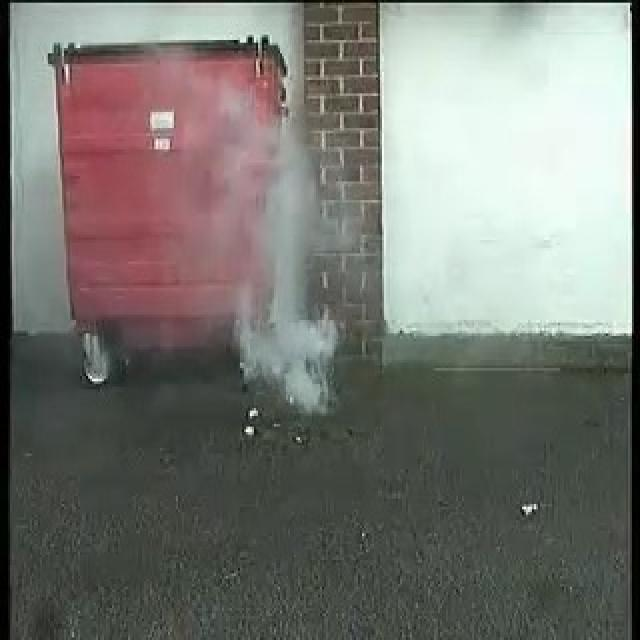Smoke: (234, 112, 338, 413)
